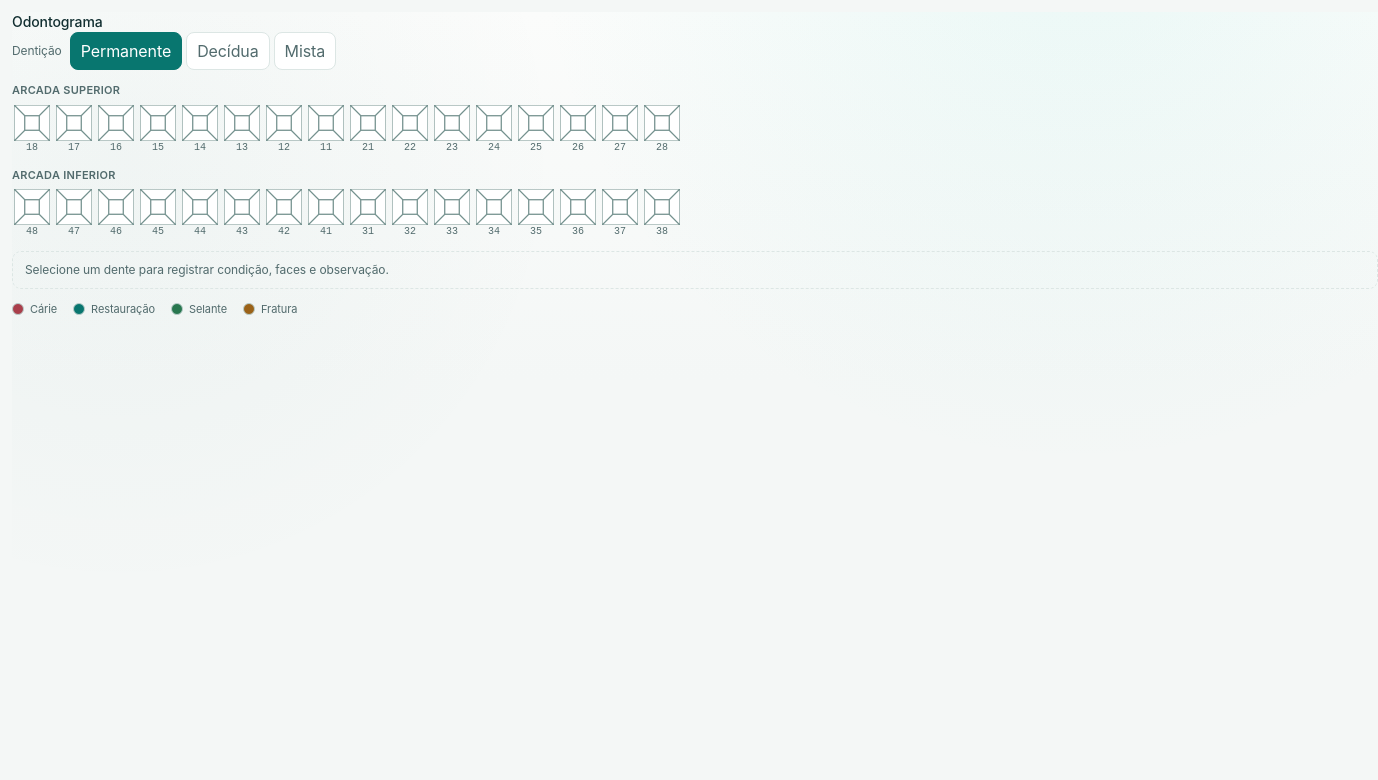
Test: Odontograma — edicao › dente anterior mostra a face como Incisal, nao Oclusal
Click the button named "Dente 11, sem marcação" at (326, 128), box [306,102,346,154]
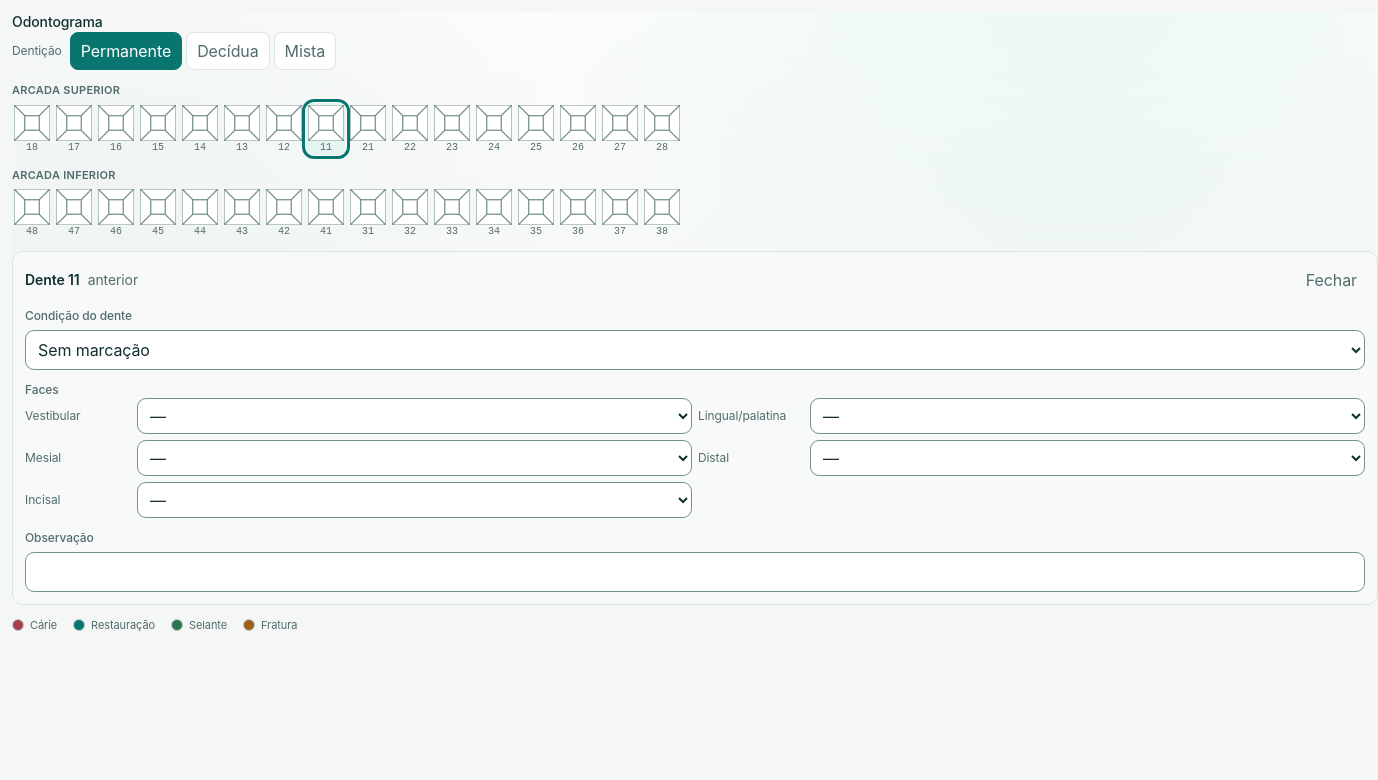
Check: the dropdown labelled "Incisal" is shown, box [137,482,692,518]
